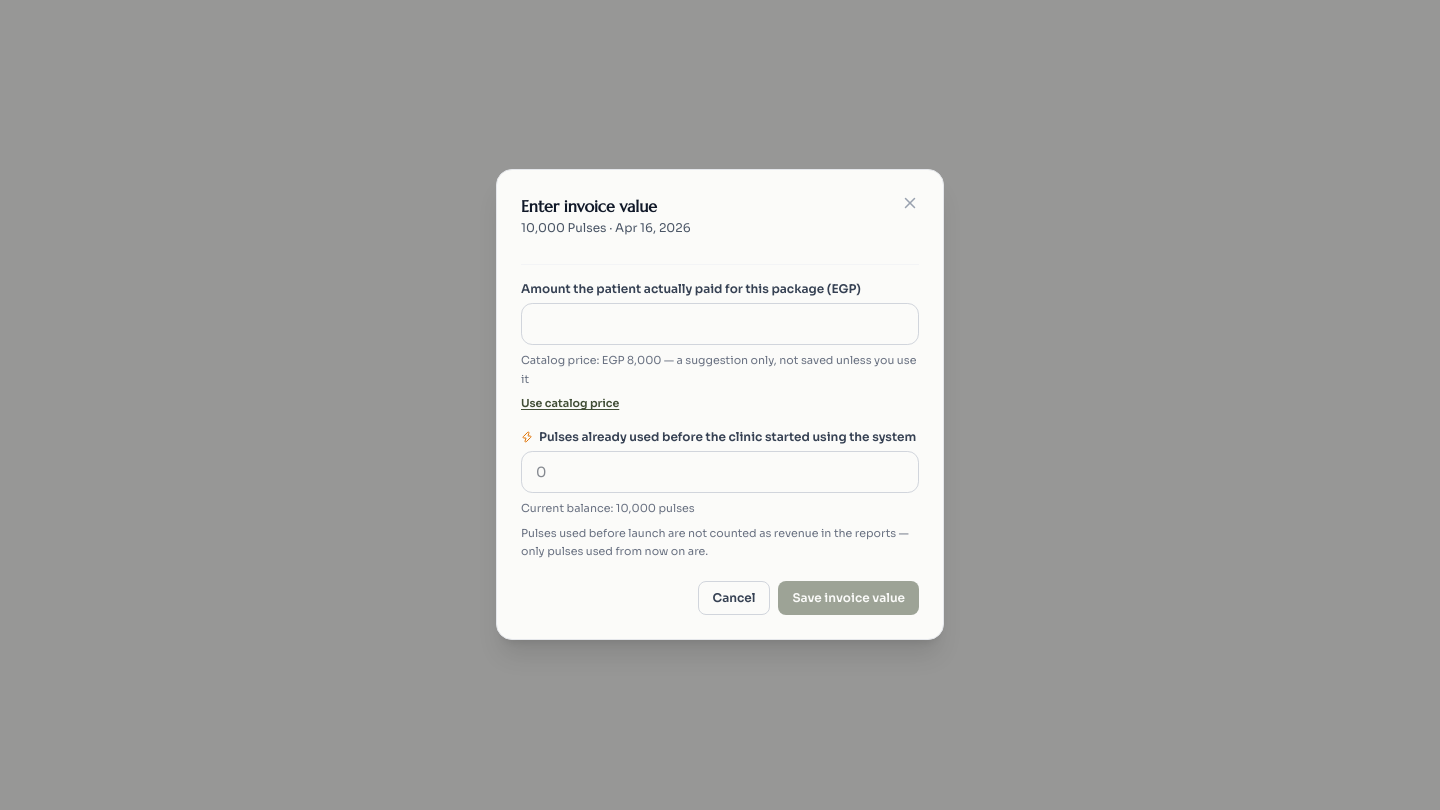
ConfirmPackagePriceModal › shows the server error and keeps the dialog open (nothing was saved)
In the number field labelled "Amount the patient actually paid for this package (EGP)": x=720, y=324 [521, 303, 919, 345], type "5000"
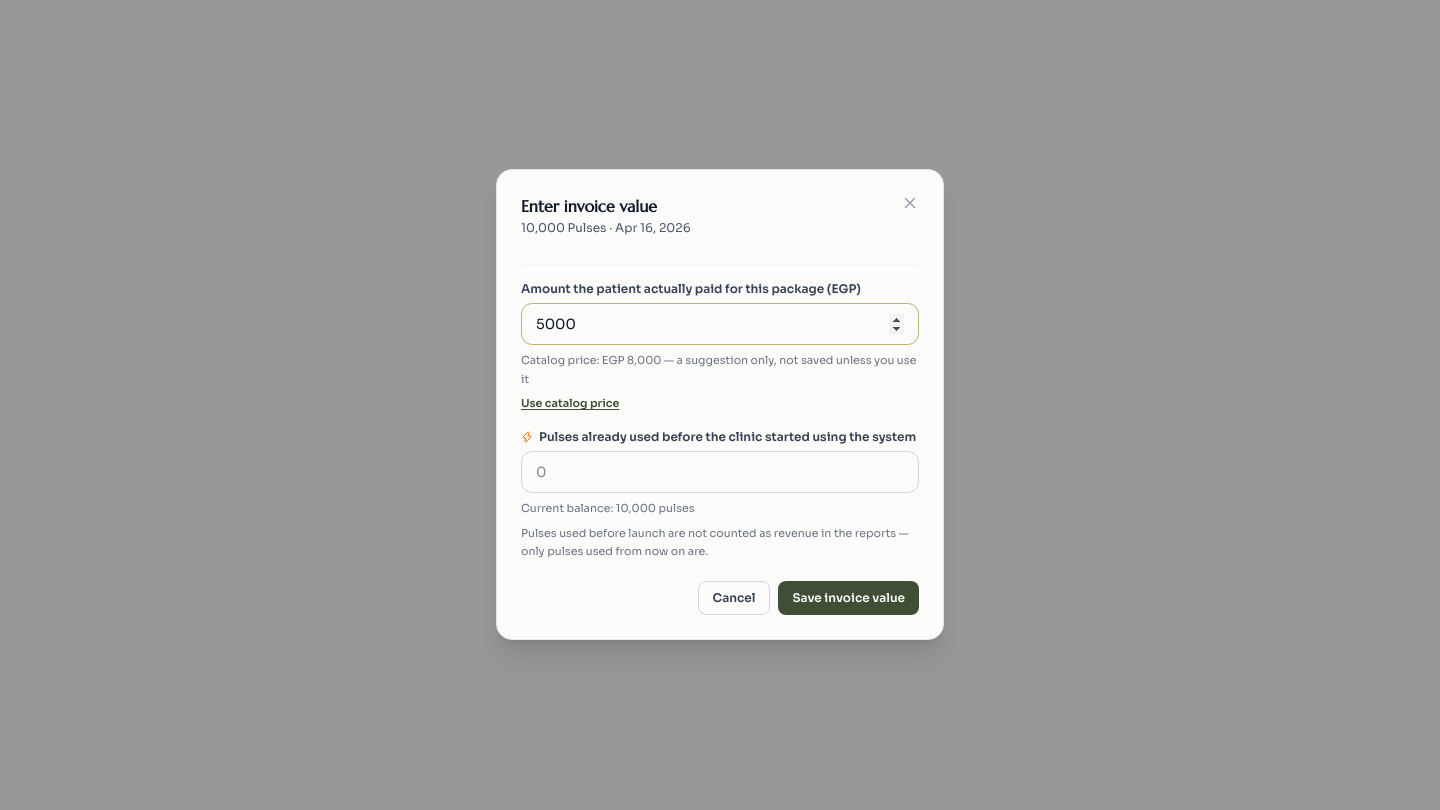
Click the button "Save invoice value": x=849, y=599 [778, 582, 919, 616]
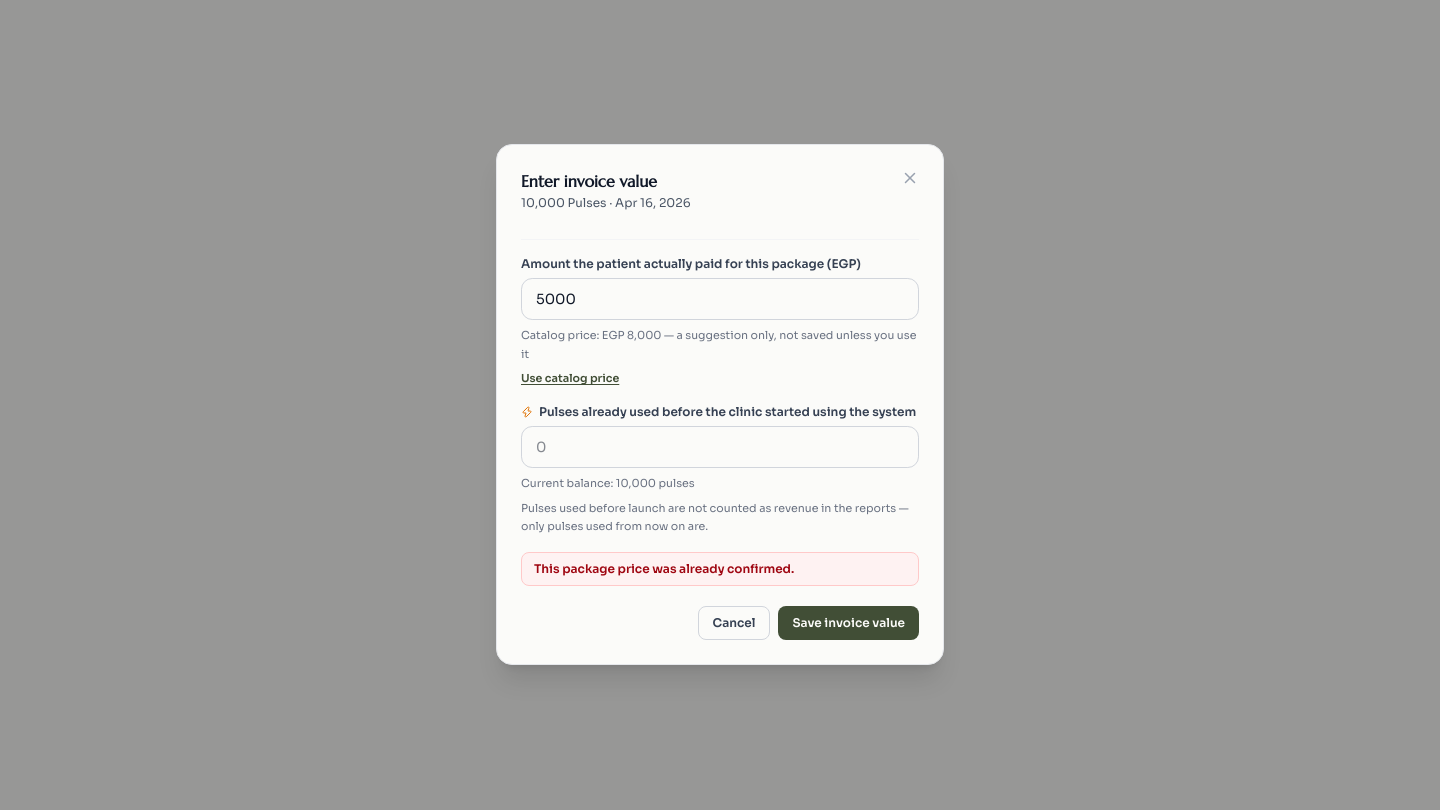
Check: the message shows "already confirmed", box [534, 562, 794, 577]
